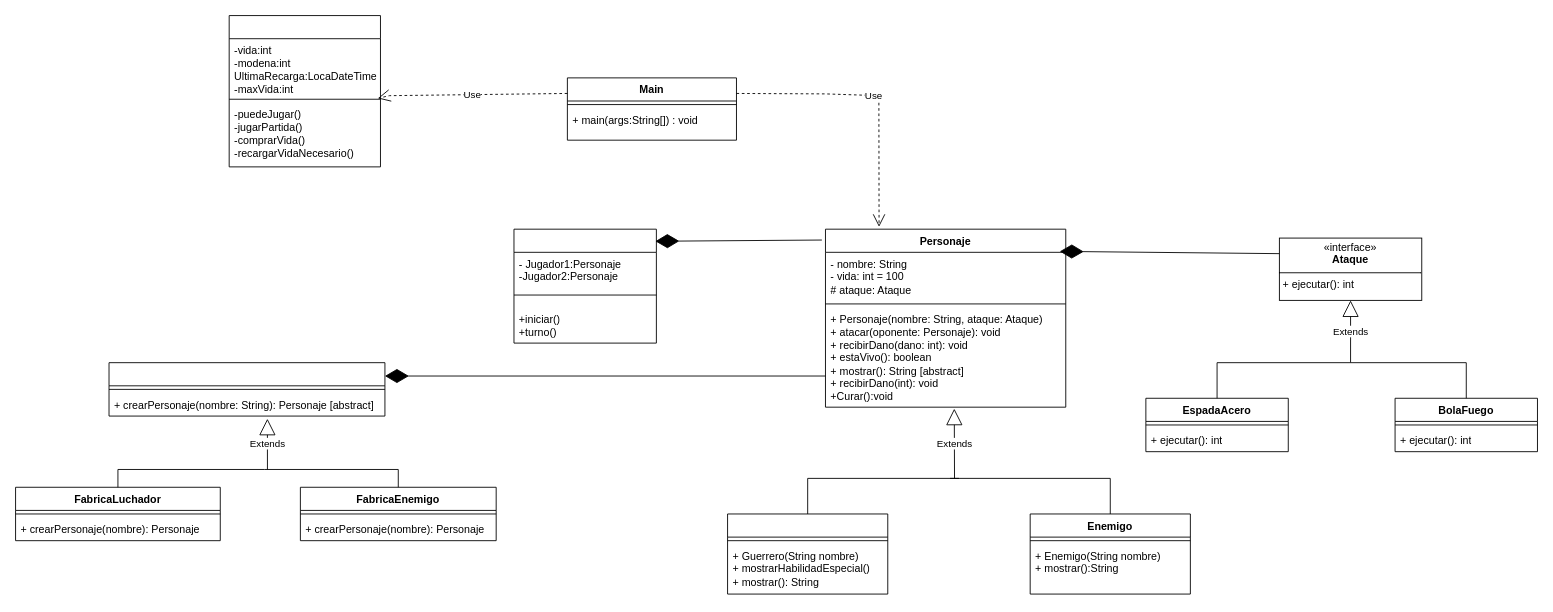
Some shapes in this 1553 by 612 pixel diagram are drawn without their labels. Here are the shapes that lost their labels. From the top down, the box of each, then its label:
(228, 15, 380, 167): Jugador
(513, 228, 656, 343): JuegoLucha
(108, 362, 385, 416): FabricaPersonaje
(727, 513, 888, 594): Luchador
